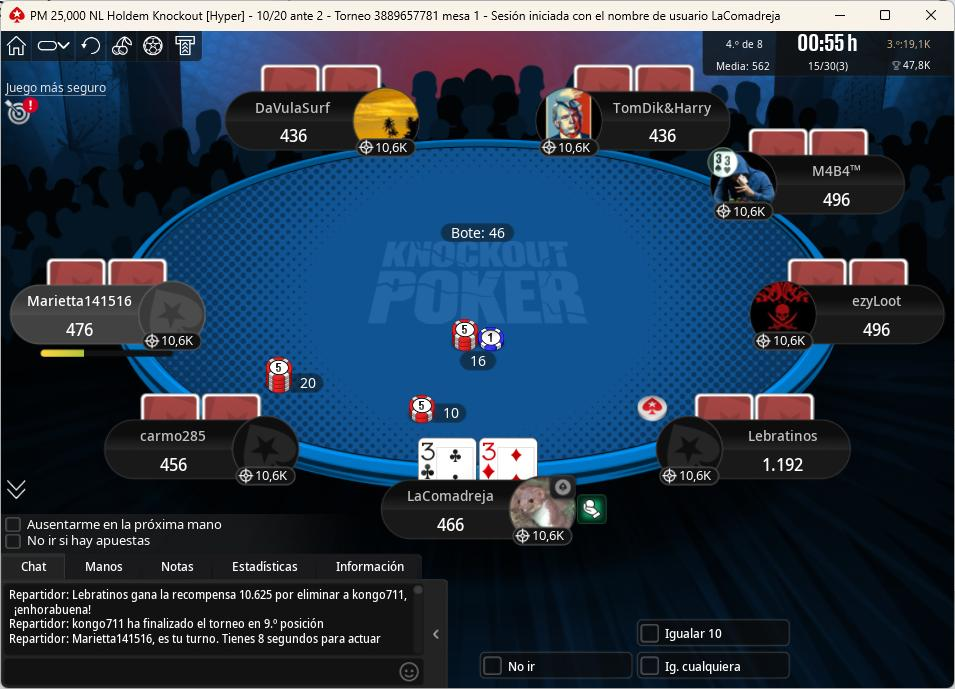Dealer: (633, 394, 671, 425)
HiddenCards: (136, 394, 267, 424), (693, 394, 822, 424), (575, 68, 703, 96), (748, 131, 871, 160), (784, 258, 911, 286), (260, 67, 387, 95), (45, 259, 173, 286)
Player: (7, 284, 208, 352), (705, 155, 912, 221), (747, 284, 950, 351), (101, 421, 302, 487), (223, 92, 418, 160), (544, 93, 738, 160), (655, 422, 854, 487)
PlayerBet: (251, 354, 329, 400)
PlayerChips: (759, 455, 816, 475), (859, 322, 902, 342), (151, 456, 195, 475), (59, 324, 103, 343), (643, 130, 689, 148), (816, 192, 860, 210), (273, 130, 319, 146)
Pot: (438, 224, 519, 244)
PreButtonCall: (632, 616, 793, 652)
PreButtonCallAny: (636, 652, 796, 684)
PreButtonFold: (475, 651, 638, 684)
PrincipalBet: (405, 394, 472, 427)
PrincipalCards: (415, 438, 546, 484)
PrincipalCards1: (415, 436, 477, 482)
PrincipalCards2: (480, 436, 543, 482)
PrincipalPlayer: (381, 477, 587, 552)
PrincipalPlayerChips: (431, 518, 478, 537)
SmallBigBlind: (245, 3, 336, 26)
TablePot: (431, 321, 540, 380)
